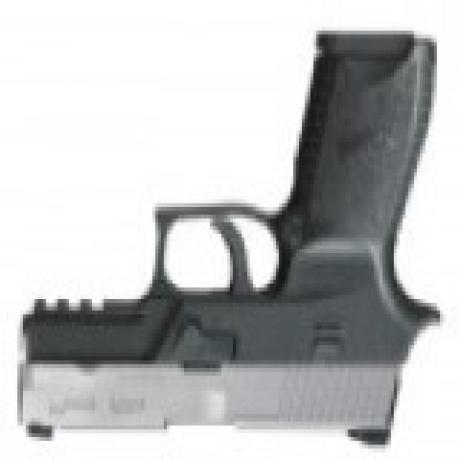weapon: (18, 23, 442, 443)
